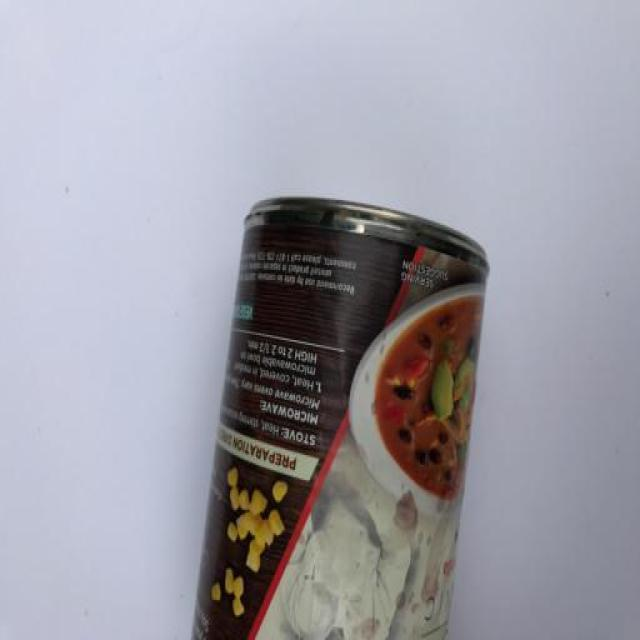inorganic: (189, 197, 491, 640)
